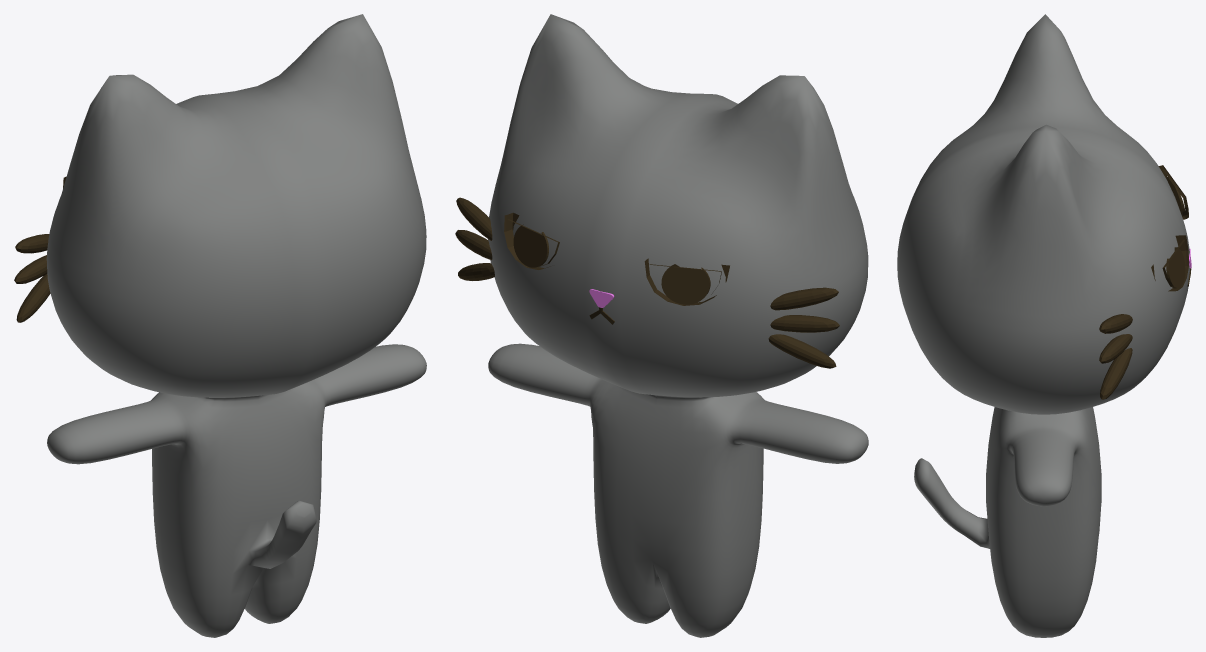
The model's file is Gato.glb.
3 views of the same model, side by side, from view 1: azimuth 30°, elevation 25°; view 2: azimuth 150°, elevation 25°; view 3: azimuth 270°, elevation 25° (orthographic). The views are drawn at different scales.
Parts seen in each view (by area): view 1: Cube.002, Cube; view 2: Cube.002, Cube; view 3: Cube.002, Cube.
Part boxes in pixels (x1,y1,x2,y2): Cube.002: (46, 14, 426, 637); Cube: (14, 176, 66, 322); Cube.002: (488, 14, 868, 637); Cube: (455, 197, 839, 368); Cube.002: (897, 14, 1189, 637); Cube: (1099, 165, 1188, 399).
Bounding box in the file's own units: 2.34 × 3.4 × 1.65.
